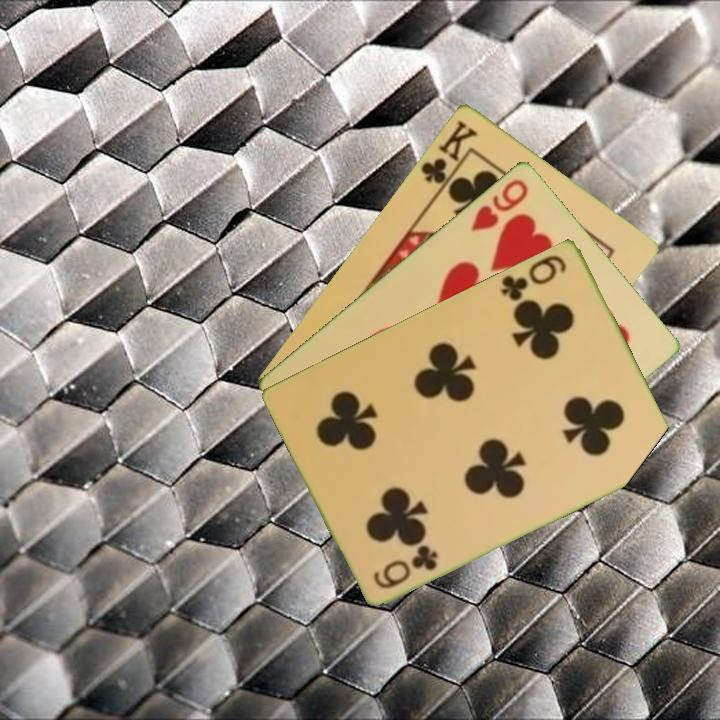6c: (497, 250, 570, 304), (369, 541, 442, 592)
9h: (467, 174, 532, 234)
Kc: (416, 116, 481, 196)
